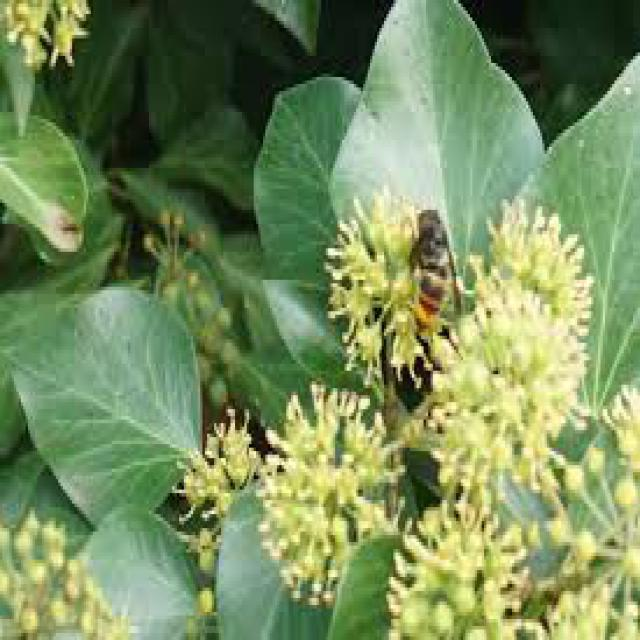Vespa Velutina: (398, 195, 468, 337)
